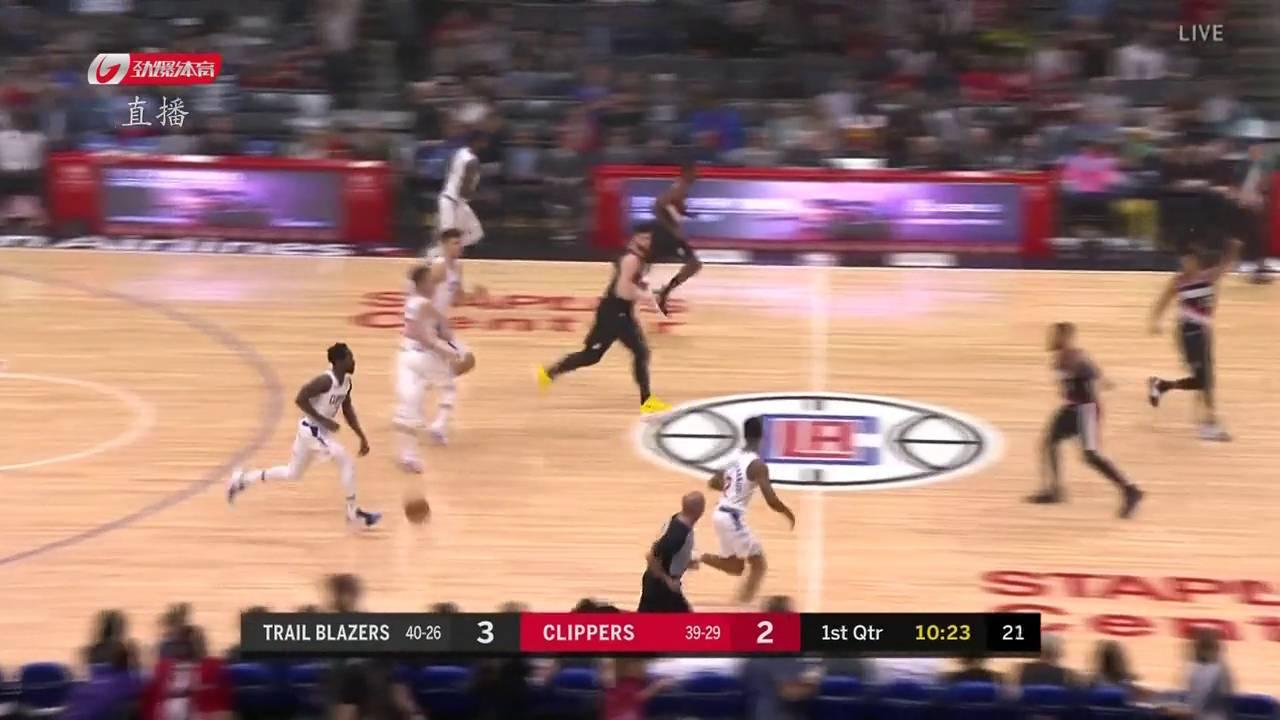basketball: (401, 496, 434, 525)
